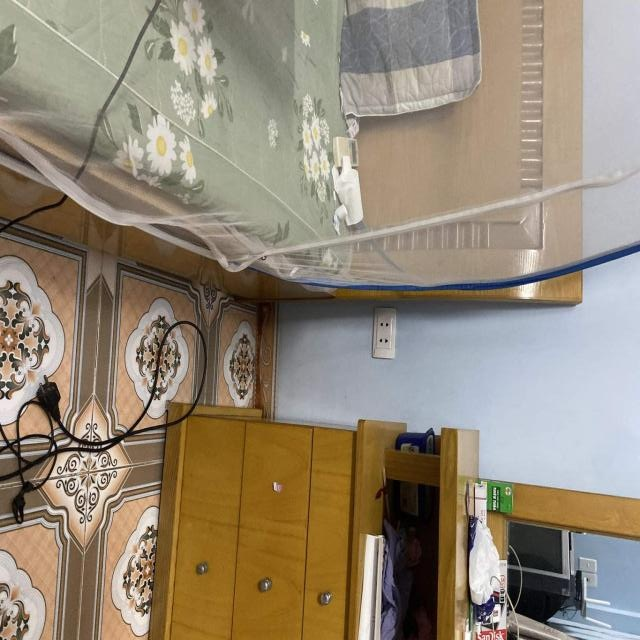outlet: (372, 307, 397, 359)
